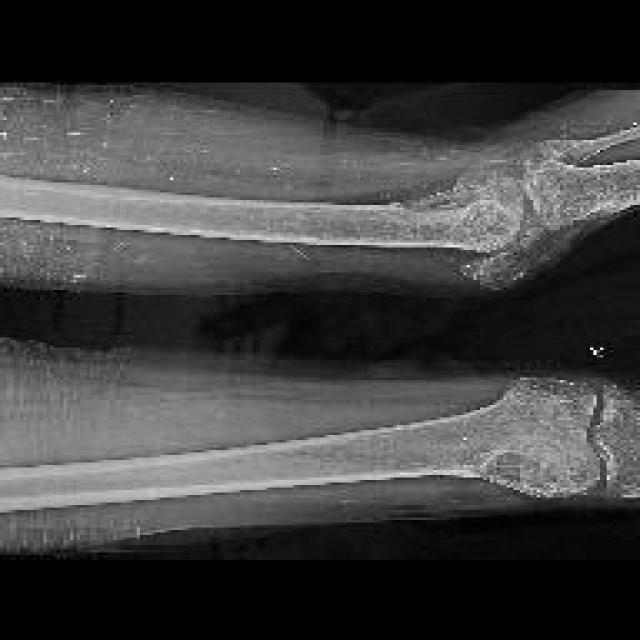bone-cancer: (465, 448, 572, 497)
